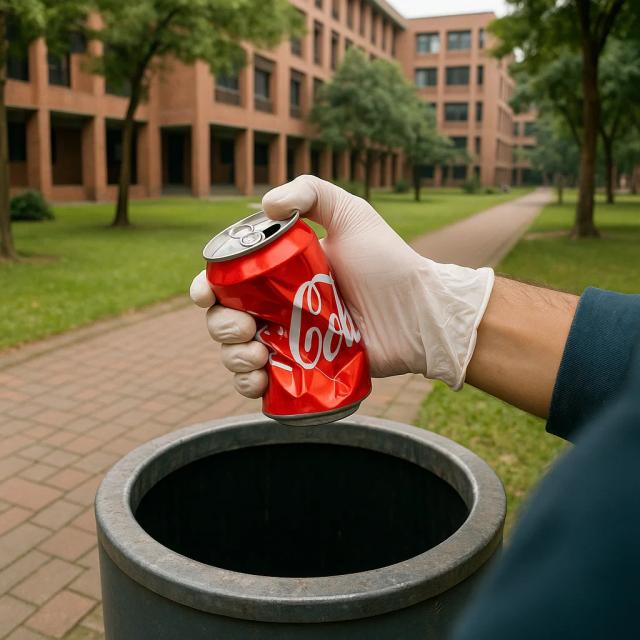aluminum: (203, 219, 379, 420)
